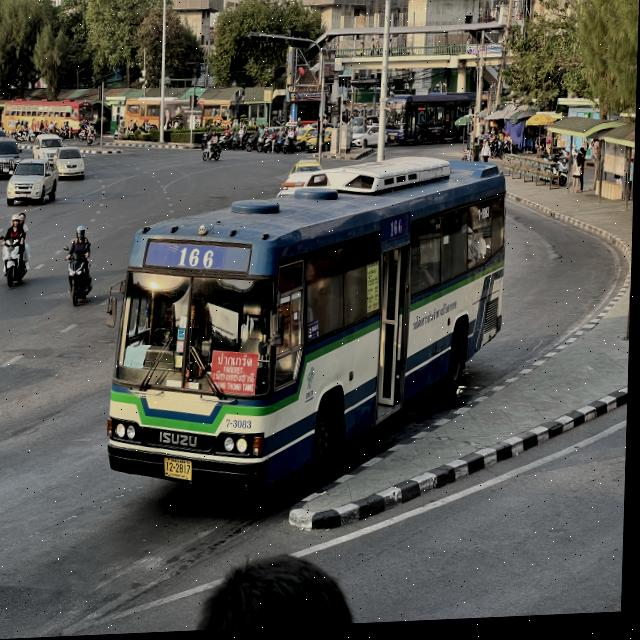BMTA-bus: (106, 158, 511, 502)
Bus-Line-Number: (175, 241, 222, 275)
Destination-Sign-Extra-Bus: (210, 349, 262, 399)
